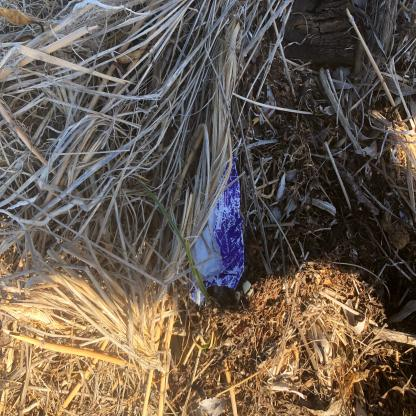trash: (80, 247, 206, 332)
